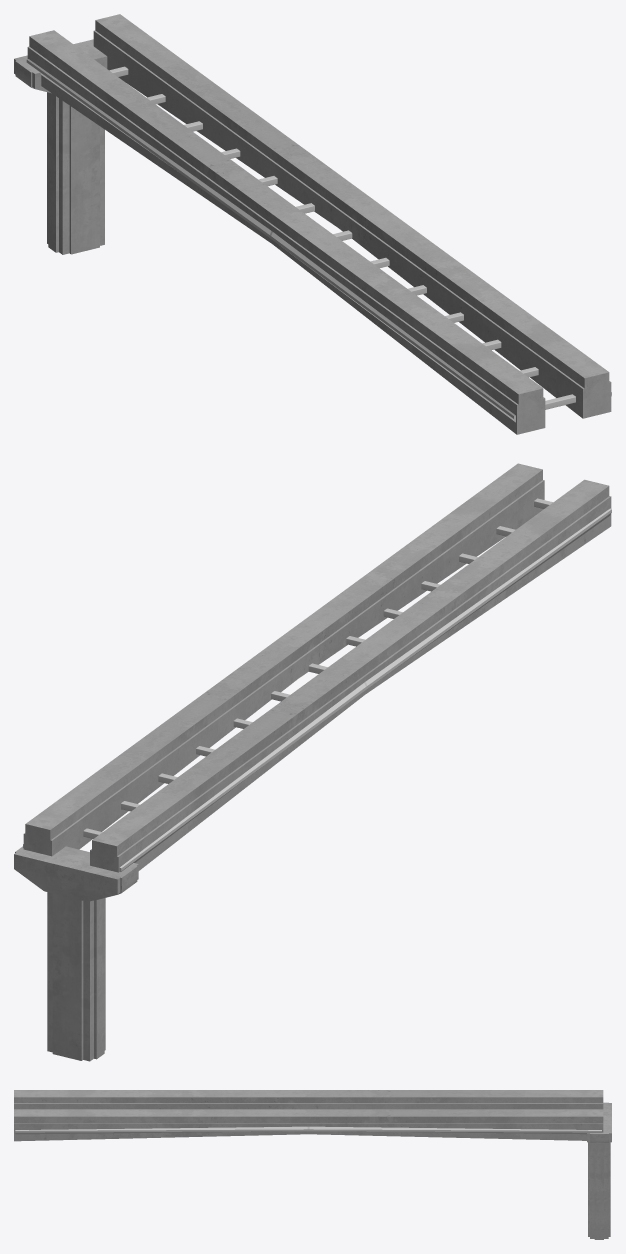
File: MonoRail_Build.fbx
3 views of the same model, one above another, from view 1: azimuth 30°, elevation 25°; view 2: azimuth 150°, elevation 25°; view 3: azimuth 270°, elevation 25° (orthographic). The views are drawn at different scales.
Visible parts, largest first — view 1: Monorail_Build; view 2: Monorail_Build; view 3: Monorail_Build.
Boxes of the visible parts, x1,y1,x2,y2 form: Monorail_Build: (14,14,611,434); Monorail_Build: (14,463,611,1061); Monorail_Build: (14,1090,611,1239).
Bounding box in the file's own units: 3.75 × 7.31 × 30.44.
